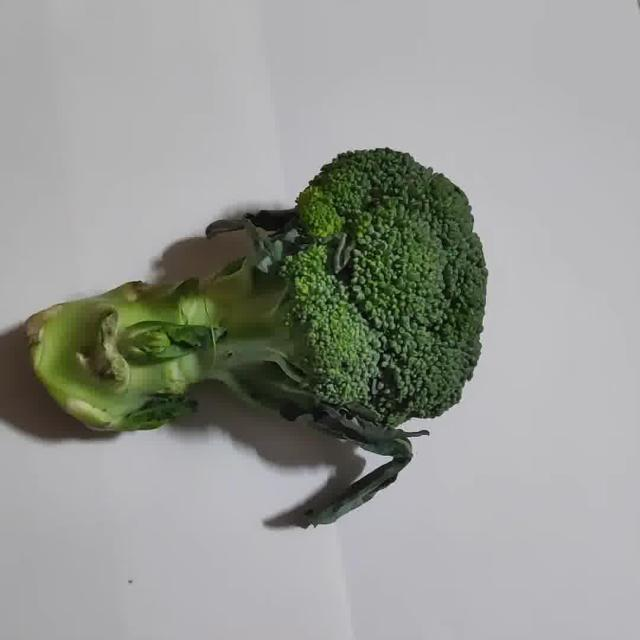Broccoli: (24, 144, 485, 523)
